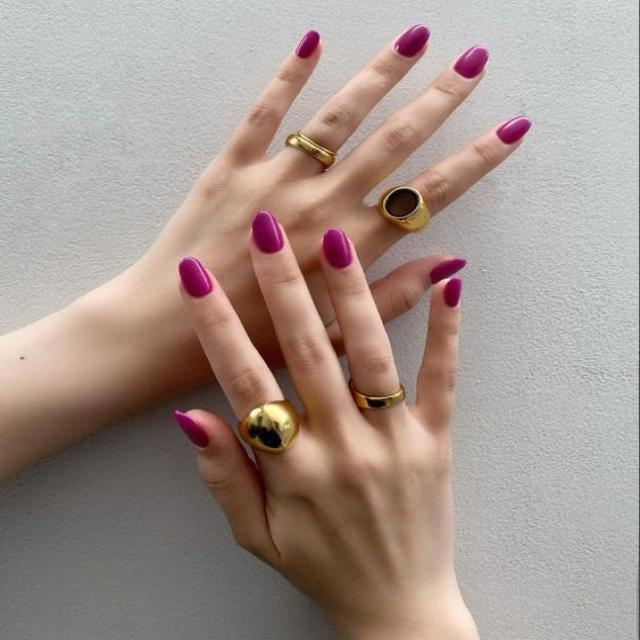Fingernail: (251, 211, 284, 254), (178, 257, 213, 297), (172, 411, 208, 448), (323, 228, 353, 269), (395, 25, 430, 57), (454, 46, 489, 78), (431, 259, 467, 285), (497, 117, 532, 143), (298, 31, 319, 59), (444, 278, 462, 307)
